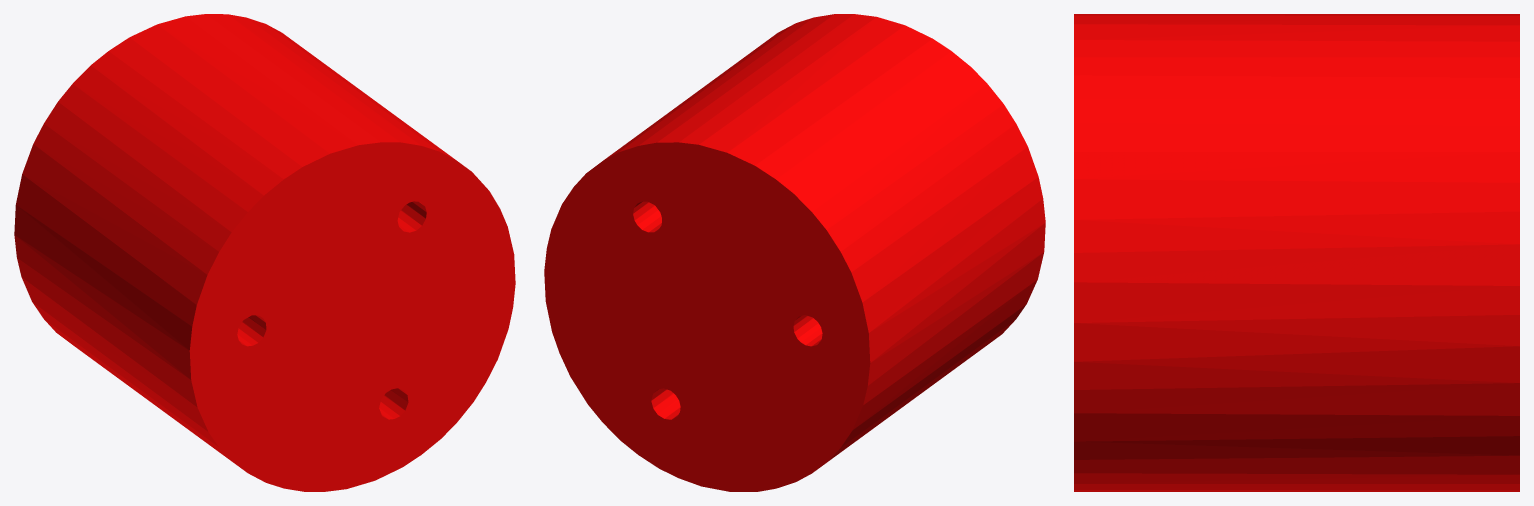
File: legs_1_right_leg_1_x4_1_inner_1.glb
3 views of the same model, side by side, from view 1: azimuth 30°, elevation 25°; view 2: azimuth 150°, elevation 25°; view 3: azimuth 270°, elevation 25° (orthographic). The views are drawn at different scales.
Visible parts, largest first — view 1: legs_1_right_leg_1_x4_1_inner_1.obj; view 2: legs_1_right_leg_1_x4_1_inner_1.obj; view 3: legs_1_right_leg_1_x4_1_inner_1.obj.
Boxes of the visible parts, box(x1,y1,x2,y2) form: legs_1_right_leg_1_x4_1_inner_1.obj: box(14, 14, 515, 491); legs_1_right_leg_1_x4_1_inner_1.obj: box(544, 14, 1045, 491); legs_1_right_leg_1_x4_1_inner_1.obj: box(1074, 14, 1519, 491).
Size of the model in its own units: 0.037 by 0.037 by 0.0345.
